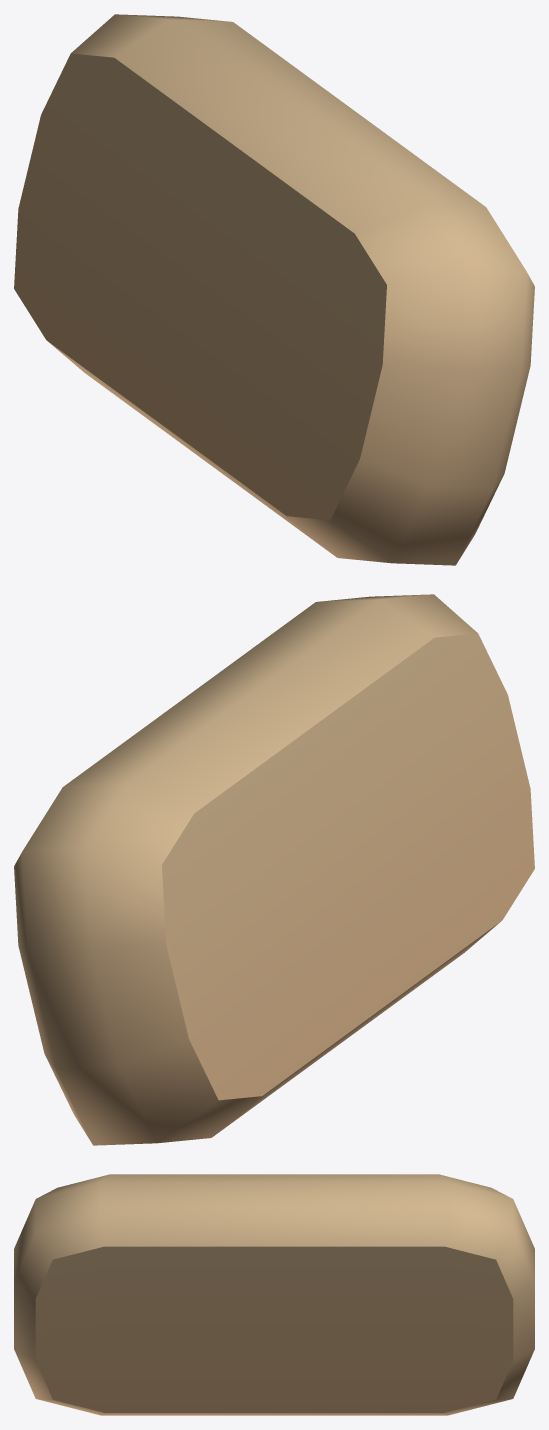
File: pillow-wide-round-reclining.glb
3 renders of one model, top to bottom at view 1: azimuth 30°, elevation 25°; view 2: azimuth 150°, elevation 25°; view 3: azimuth 270°, elevation 25°, orthographic. The views are drawn at different scales.
Parts seen in each view (by area): view 1: pillow-wide-round-reclining; view 2: pillow-wide-round-reclining; view 3: pillow-wide-round-reclining.
Boxes of the visible parts, bbox=[...] form: pillow-wide-round-reclining: bbox=[14, 14, 534, 565]; pillow-wide-round-reclining: bbox=[14, 594, 534, 1145]; pillow-wide-round-reclining: bbox=[14, 1174, 534, 1415].
Bounding box in the file's own units: 0.194 × 0.3054 × 0.6.
